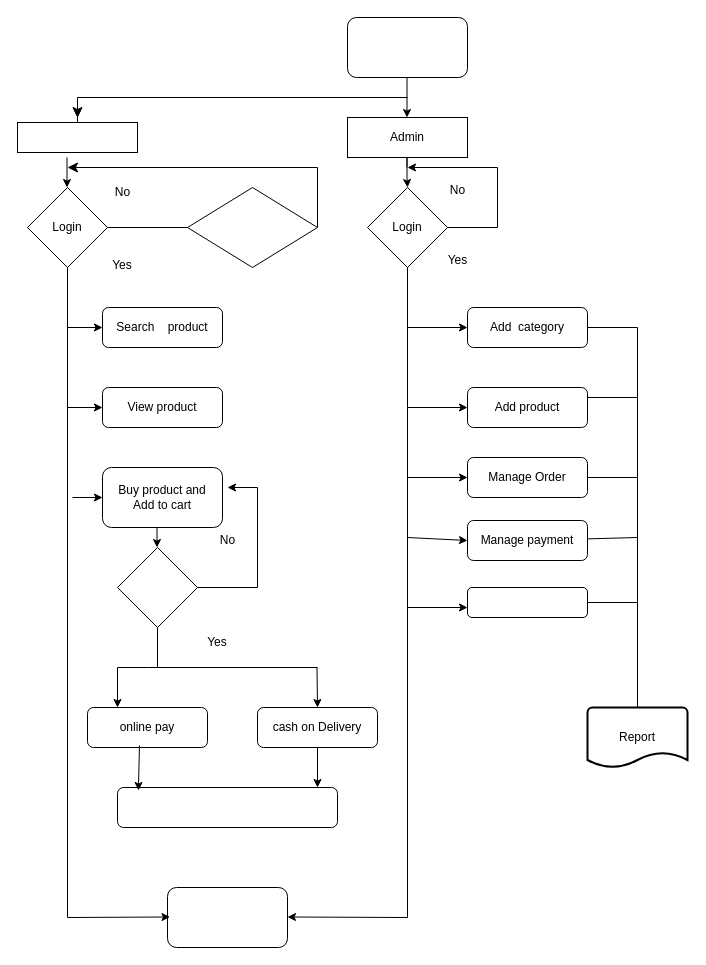
Image size: 706x965. Some labels were removed from this diagram. Each missing label, with the centre of its shape:
"Check Feedback" belongs at (x=527, y=602).
"Logout" belongs at (x=227, y=917).
"Order placed" belongs at (x=227, y=807).
"Payment" belongs at (x=157, y=587).
"Register" belongs at (x=252, y=227).
"start" belongs at (x=407, y=47).
"User" belongs at (x=77, y=137).
